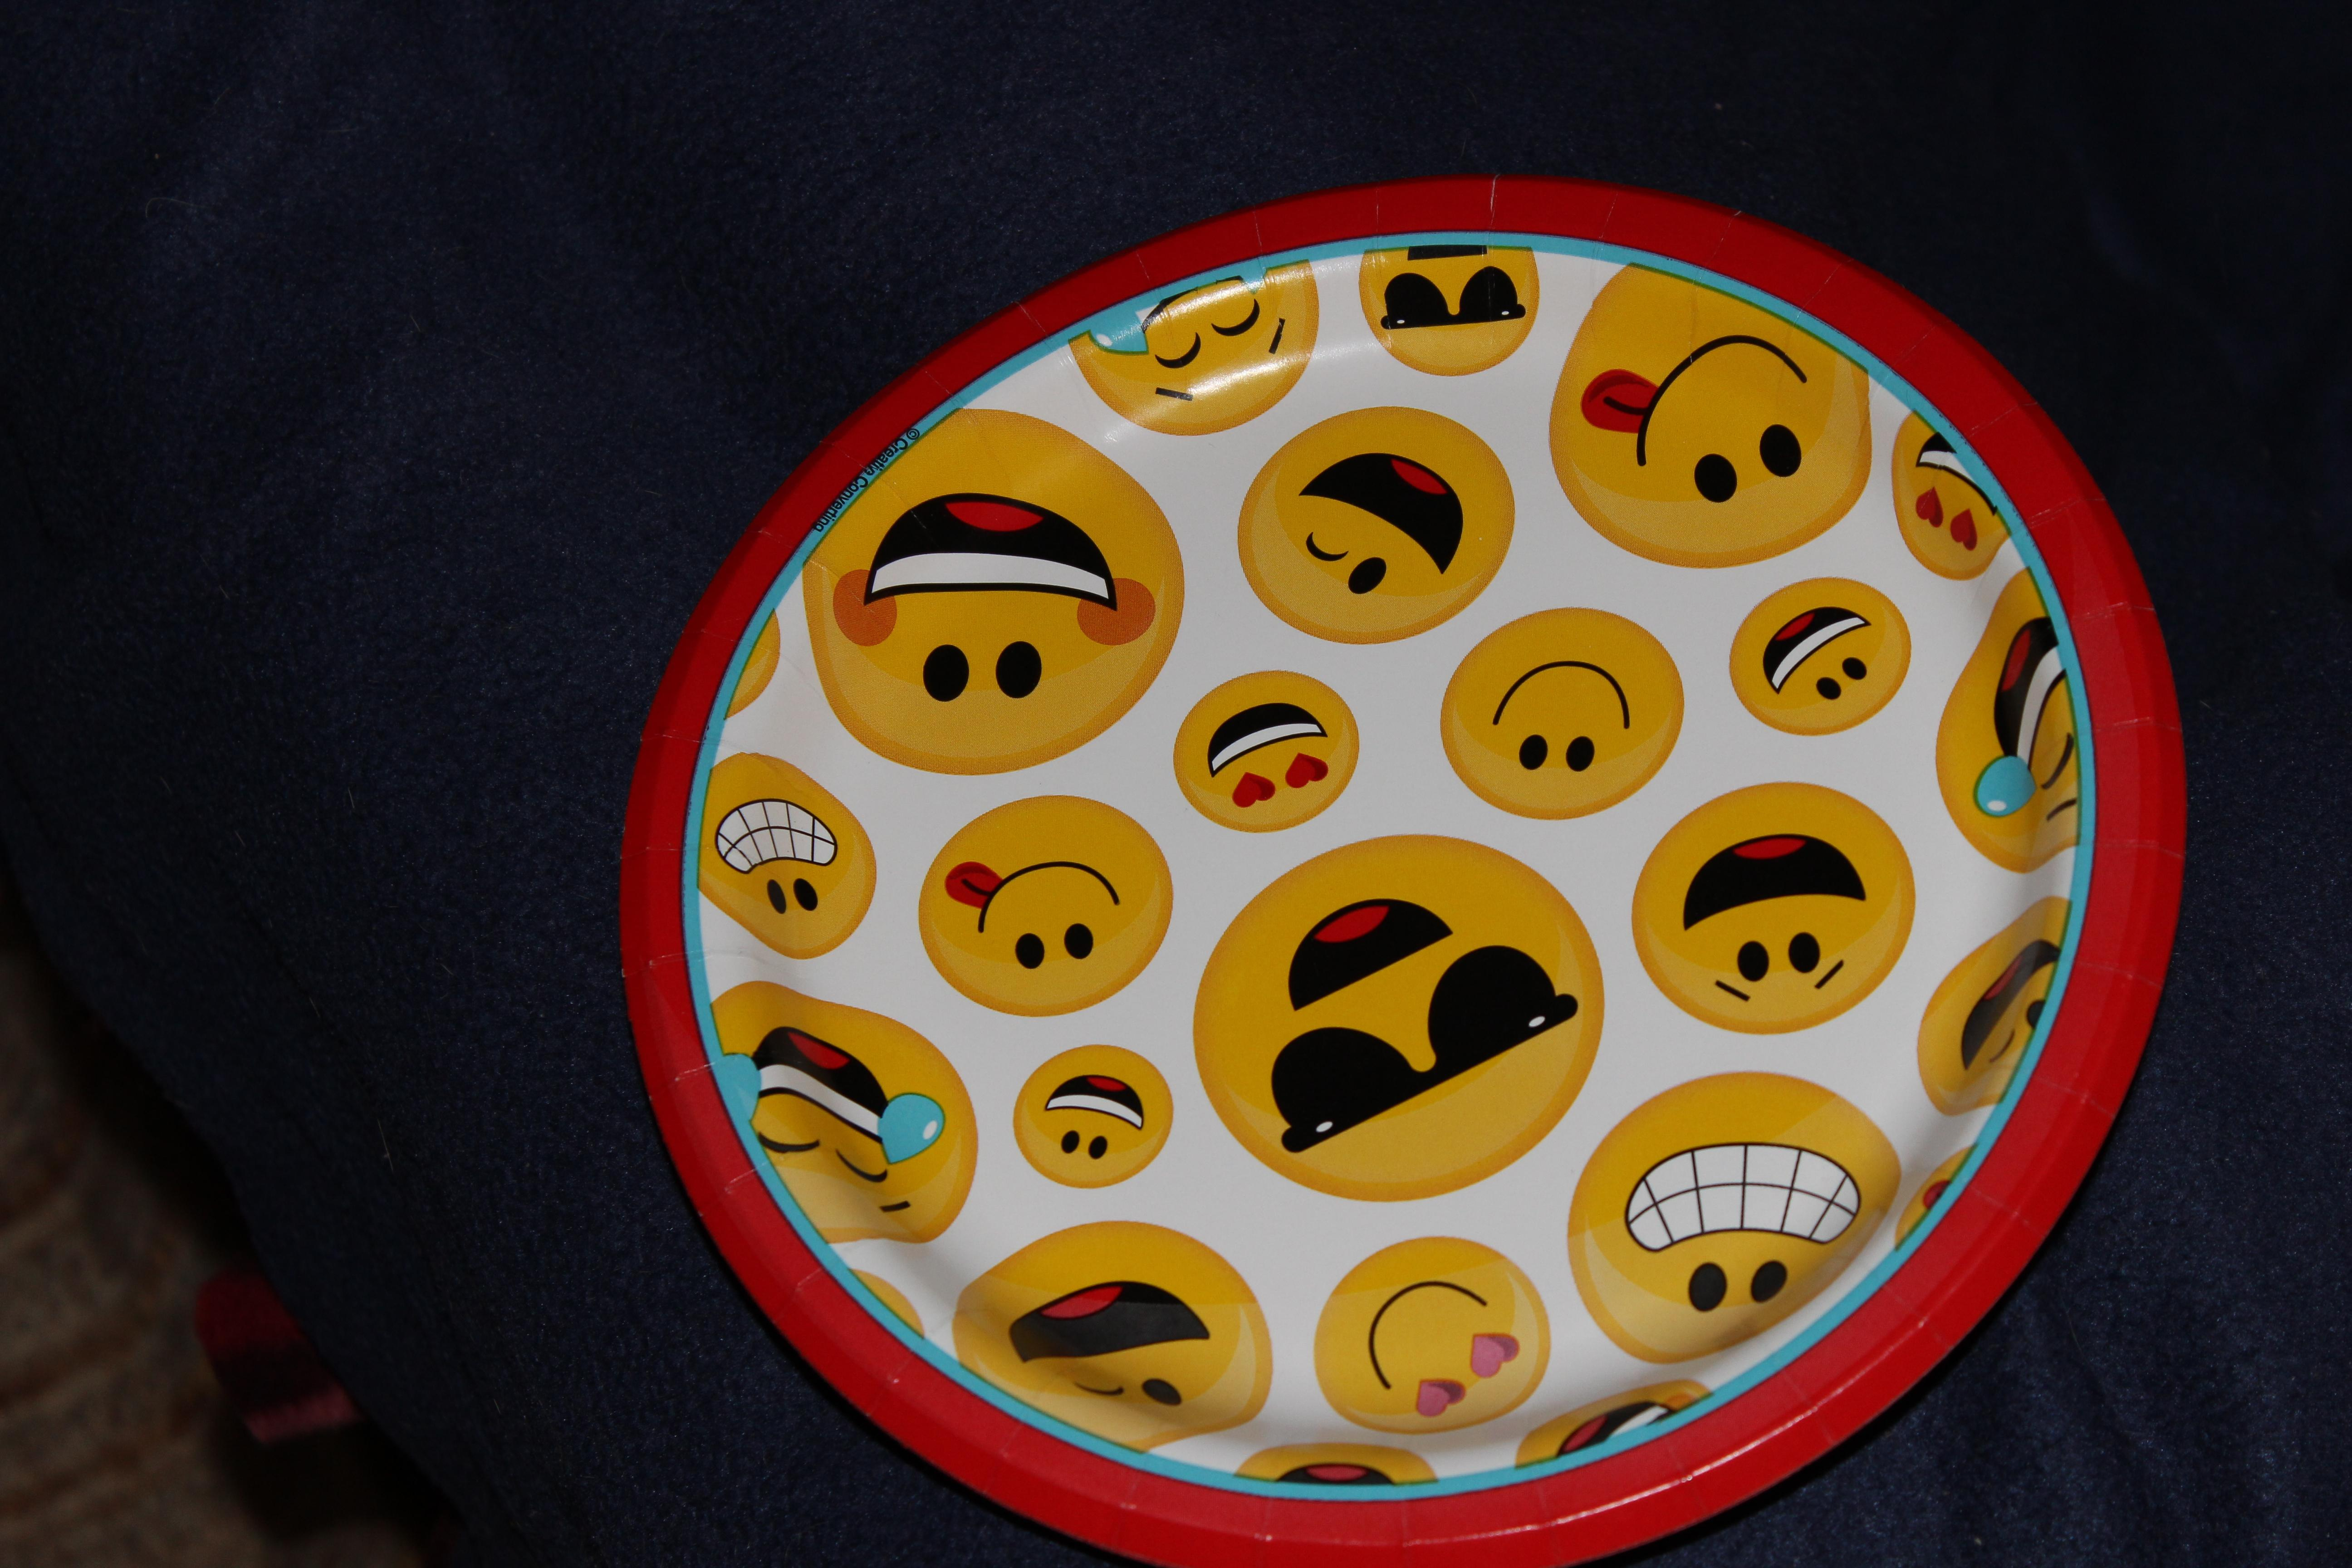paperPlate: (600, 143, 2221, 1568)
